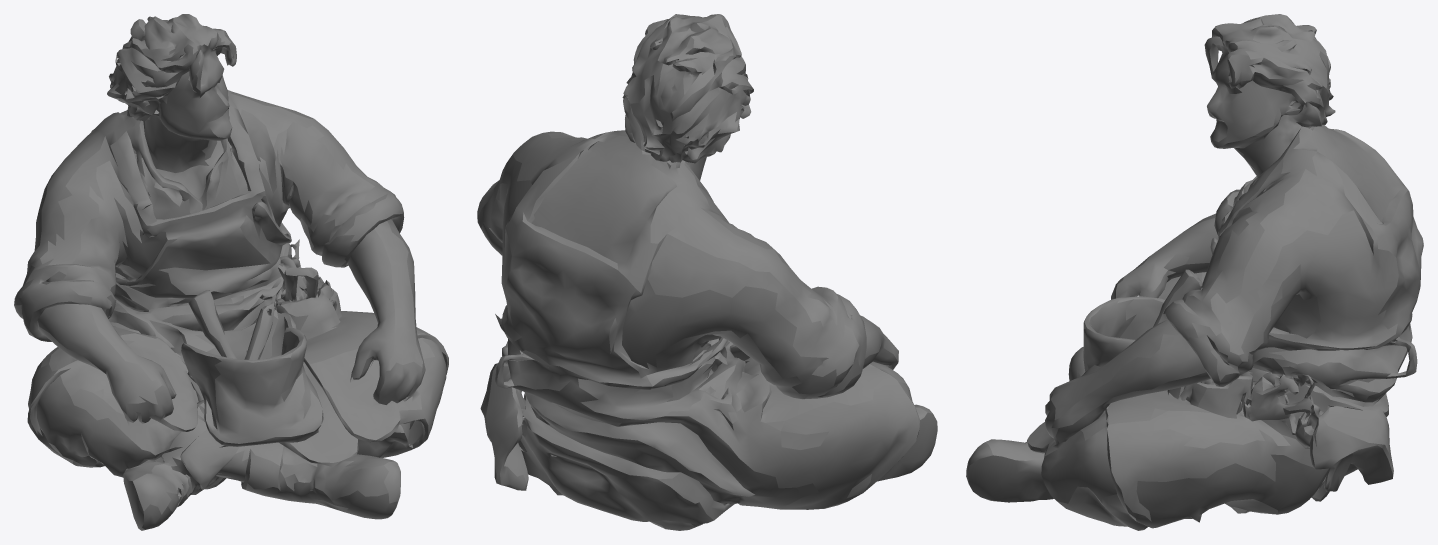
The model's file is completion_potter_2.glb.
3 renders of one model, left to right at view 1: azimuth 30°, elevation 25°; view 2: azimuth 150°, elevation 25°; view 3: azimuth 270°, elevation 25°, orthographic. The views are drawn at different scales.
Visible parts, largest first — view 1: geometry_0; view 2: geometry_0; view 3: geometry_0.
Part boxes in pixels (<box>): geometry_0: <box>14,14,448,530</box>; geometry_0: <box>477,14,937,530</box>; geometry_0: <box>966,14,1423,530</box>.
Bounding box in the file's own units: 0.9196 × 0.9997 × 0.9233.
Materials: 1 (1 with a texture image).
